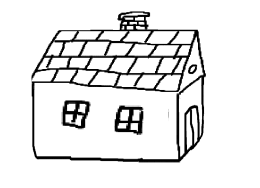chimney: (116, 9, 153, 33)
closed_window: (55, 95, 99, 136), (111, 102, 149, 137)
door: (182, 102, 204, 157)
roof: (28, 24, 210, 93)
wall: (28, 79, 183, 169)
